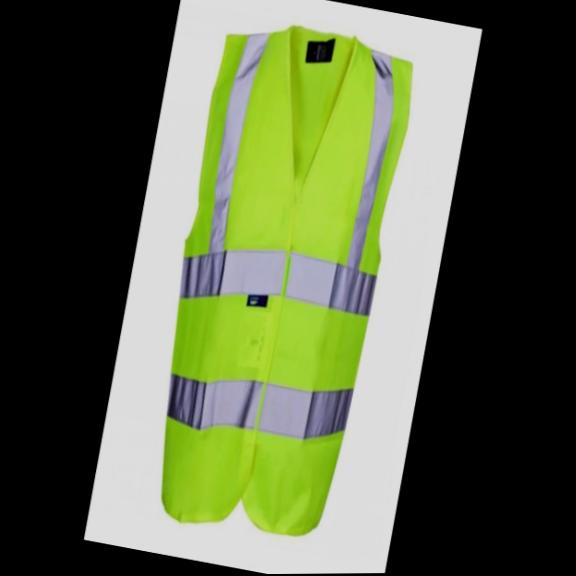safety_vest: (127, 12, 427, 551)
